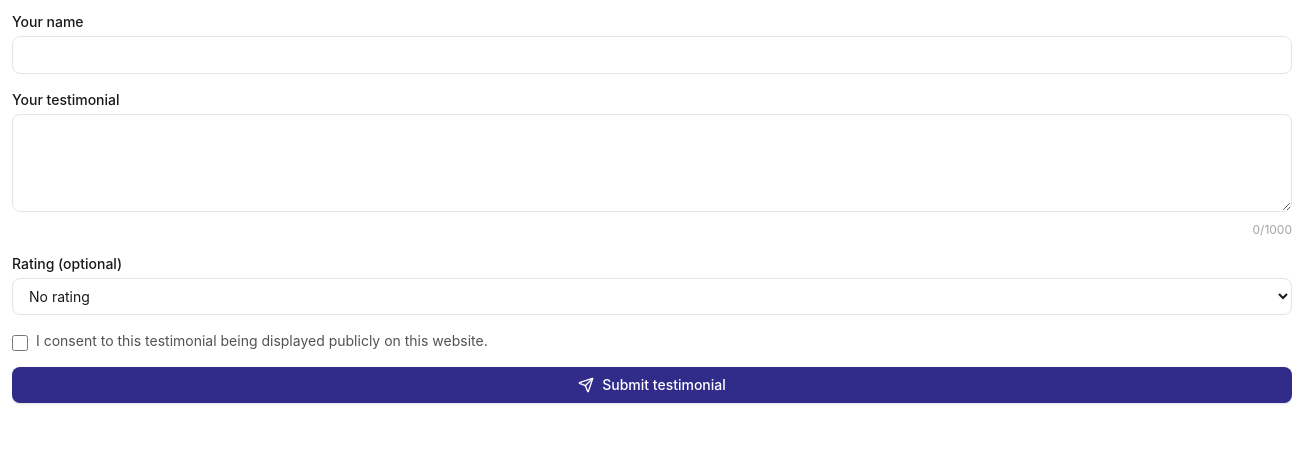
Test: TestimonialForm › shows a validation error when the name is missing
The width and height of the screenshot is (1304, 476).
Click the button "Submit testimonial" at {"x": 652, "y": 385}, box [12,367,1292,403]
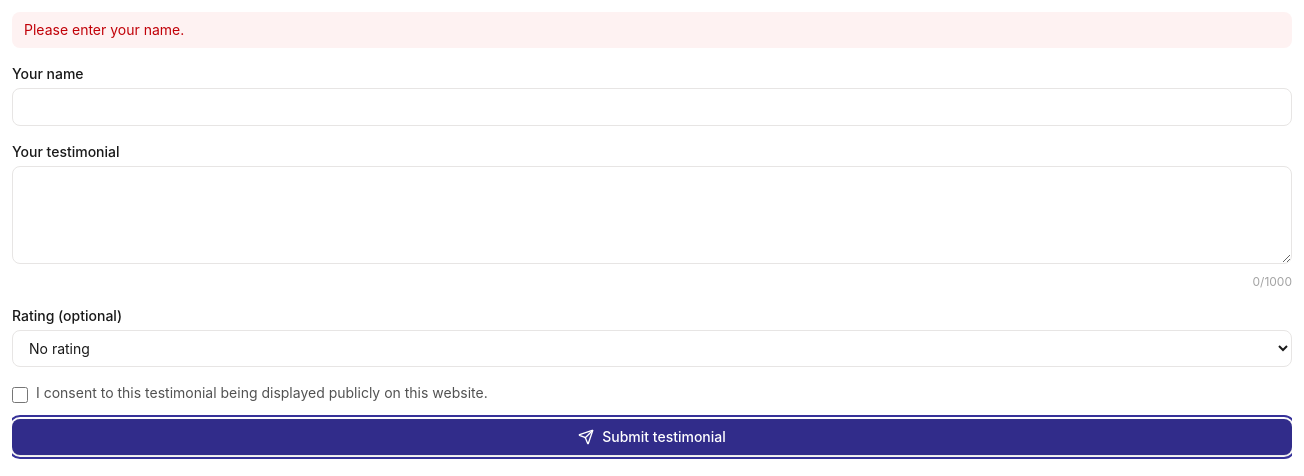
Expected: the message reads "Please enter your name.", [24,21,184,38]
